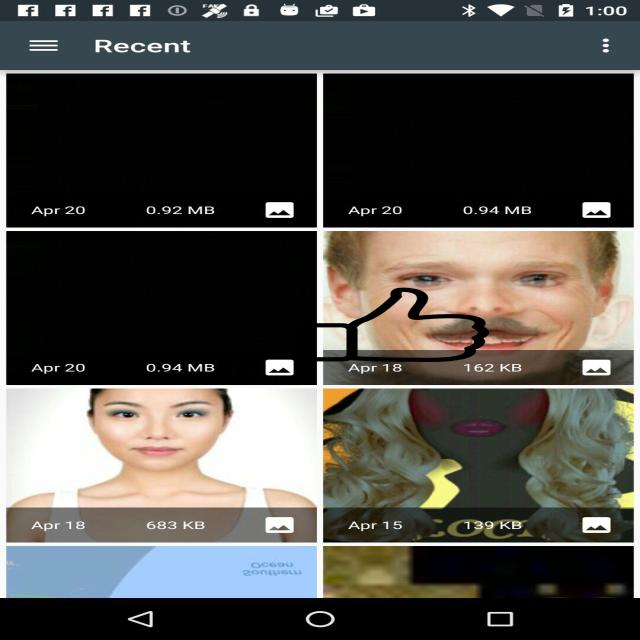privacy zuckering: (296, 288, 492, 362)
